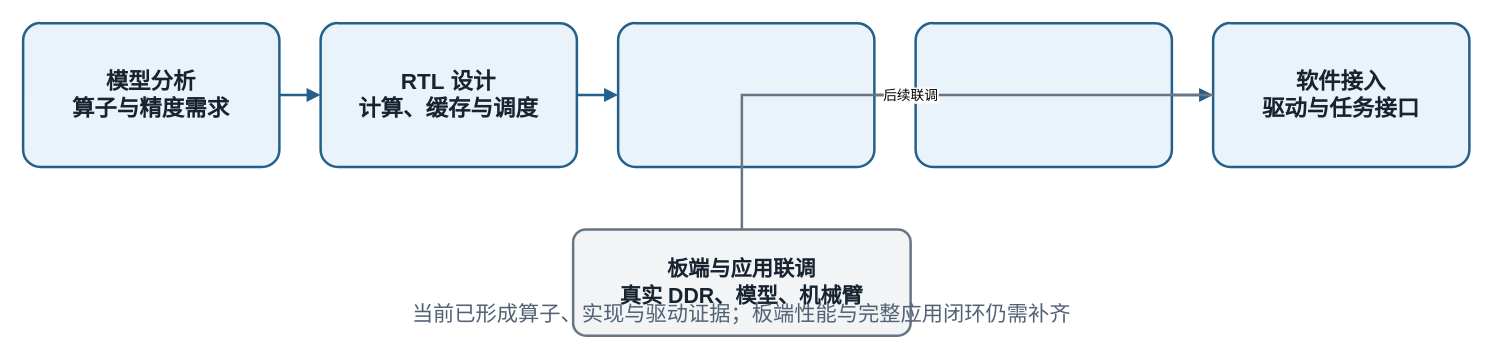
The diagram is 1491 pixels wide and 360 high, and some of its shapes have lost their labels. The box of each missing label's shape, as (x1, y1, x2, y2) in pixels:
功能验证 参考结果与协议: (616, 21, 875, 168)
实现优化 资源、时序与布线: (914, 21, 1172, 168)
